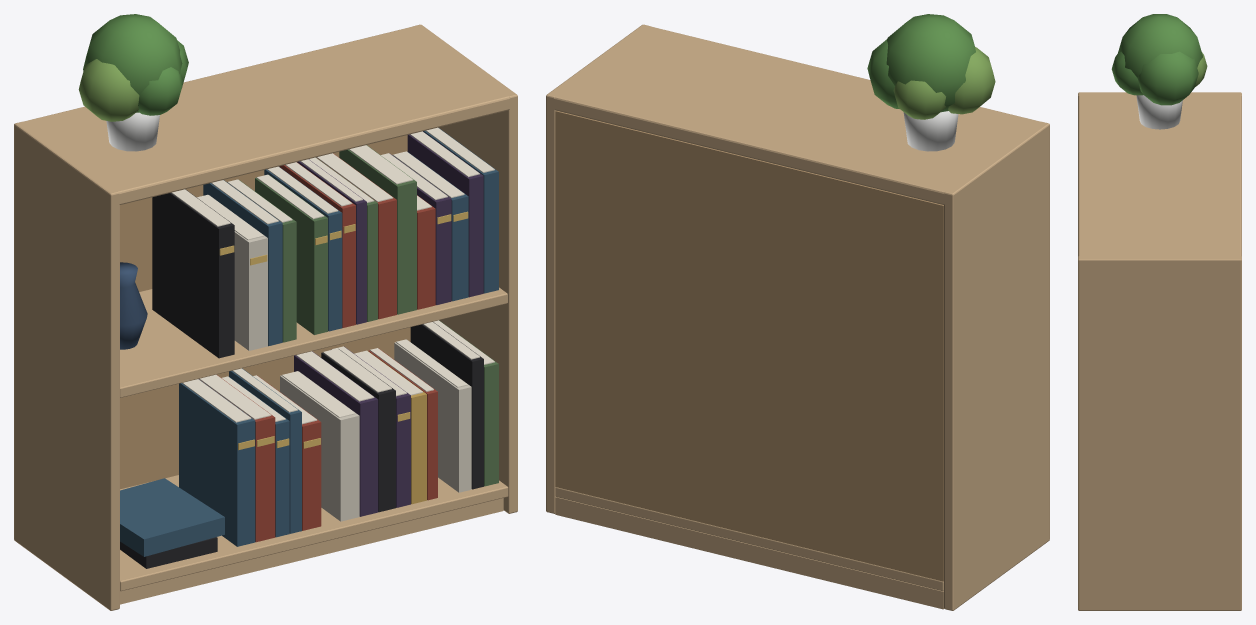
Rendered from bookcaseLow.glb.
3 renders of one model, left to right at view 1: azimuth 30°, elevation 25°; view 2: azimuth 150°, elevation 25°; view 3: azimuth 270°, elevation 25°, orthographic. The views are drawn at different scales.
Visible parts, largest first — view 1: bookcaseLow, book; view 2: bookcaseLow; view 3: bookcaseLow.
Part boxes in pixels (x1,y1,x2,y2): bookcaseLow: (14,14,517,610); book: (417,195,435,309); bookcaseLow: (546,14,1049,610); bookcaseLow: (1078,14,1241,610).
Size of the model in its own units: 0.92 by 1.17 by 0.38.
